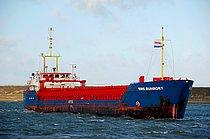Ship: (21, 23, 198, 123)
